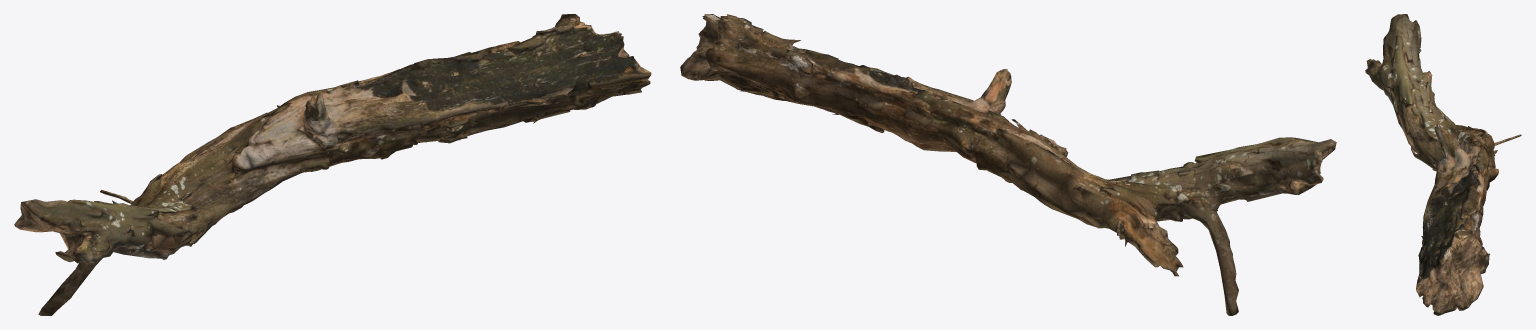
Rendered from tree-dead-trunk-02.01aa7a3f.glb.
3 views of the same model, side by side, from view 1: azimuth 30°, elevation 25°; view 2: azimuth 150°, elevation 25°; view 3: azimuth 270°, elevation 25° (orthographic). The views are drawn at different scales.
Parts seen in each view (by area): view 1: model; view 2: model; view 3: model.
Part boxes in pixels (box(x1,y1,x2,y2)): model: box(14, 14, 651, 315); model: box(680, 14, 1336, 315); model: box(1365, 14, 1521, 315).
Bounding box in the file's own units: 4.05 × 1.05 × 1.05.
1 material, 1 textured.
